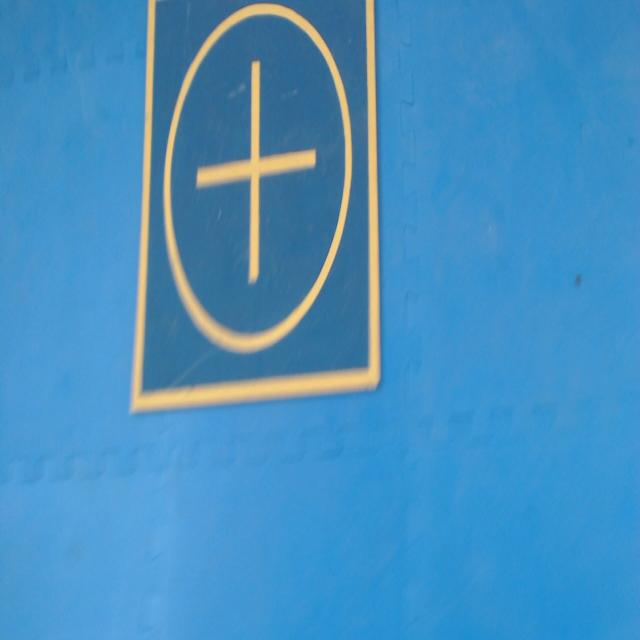base_pouso: (128, 0, 383, 418)
